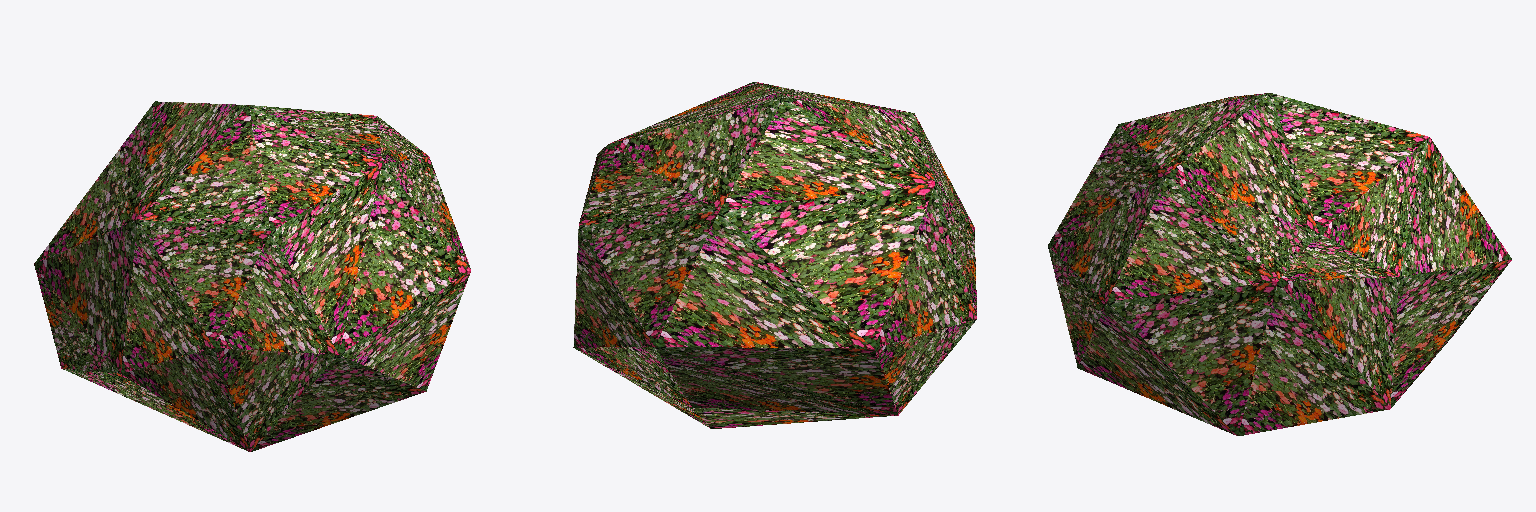
3 renders of one model, left to right at view 1: azimuth 30°, elevation 25°; view 2: azimuth 150°, elevation 25°; view 3: azimuth 270°, elevation 25°, orthographic.
Parts seen in each view (by area): view 1: Bush01.001_Icosphere.001; view 2: Bush01.001_Icosphere.001; view 3: Bush01.001_Icosphere.001.
Boxes of the visible parts, box(x1,y1,x2,y2) form: Bush01.001_Icosphere.001: box(34, 101, 470, 451); Bush01.001_Icosphere.001: box(573, 82, 976, 428); Bush01.001_Icosphere.001: box(1048, 93, 1511, 435).
Bounding box in the file's own units: 1.07 × 0.9311 × 1.25.
Materials: 1 (1 with a texture image).